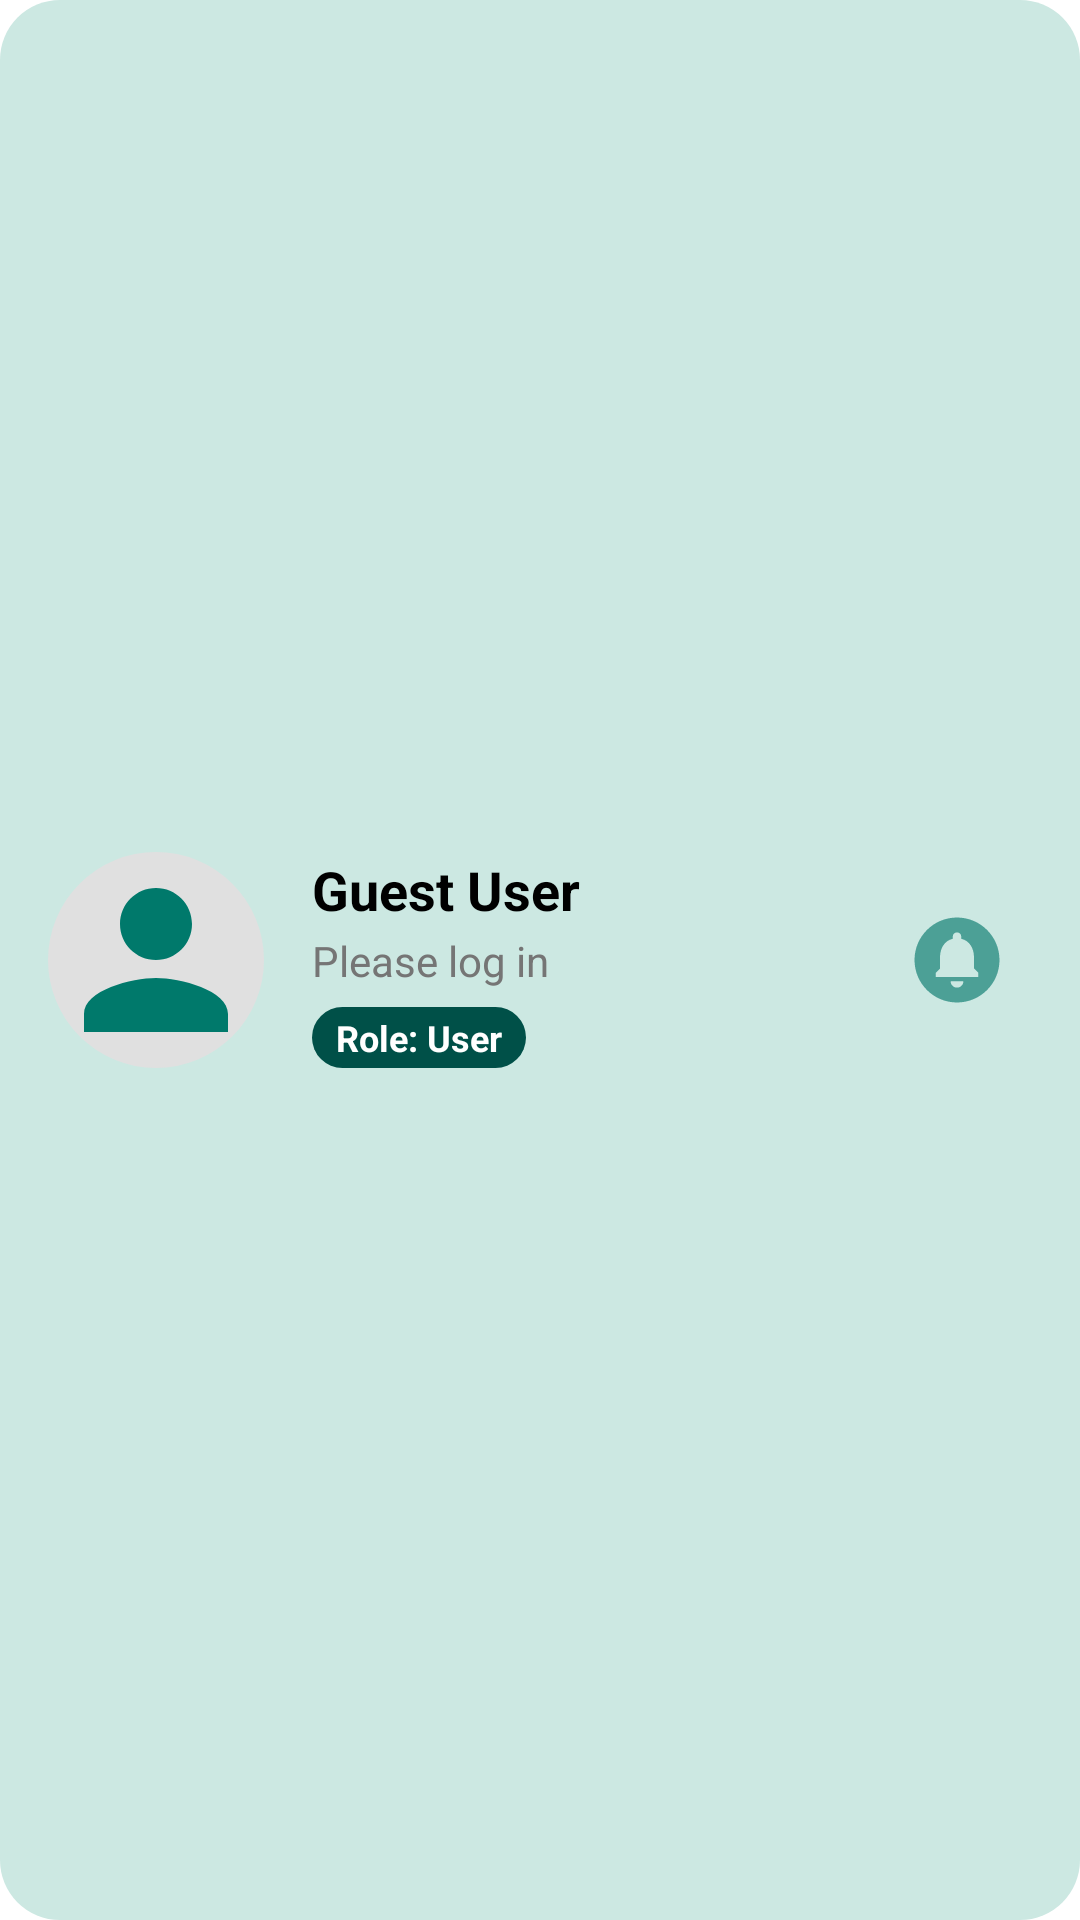

Named icons in this screenshot (1080*1920) and their bounding boxes, (x1, y1, x2, y2):
circle notifications: (914, 917, 1000, 1003)
person: (84, 888, 228, 1032)
